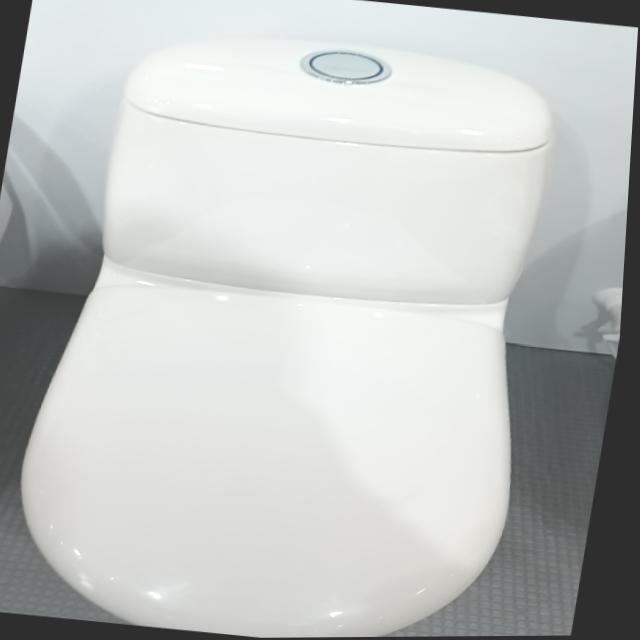toilet: (3, 14, 584, 640)
